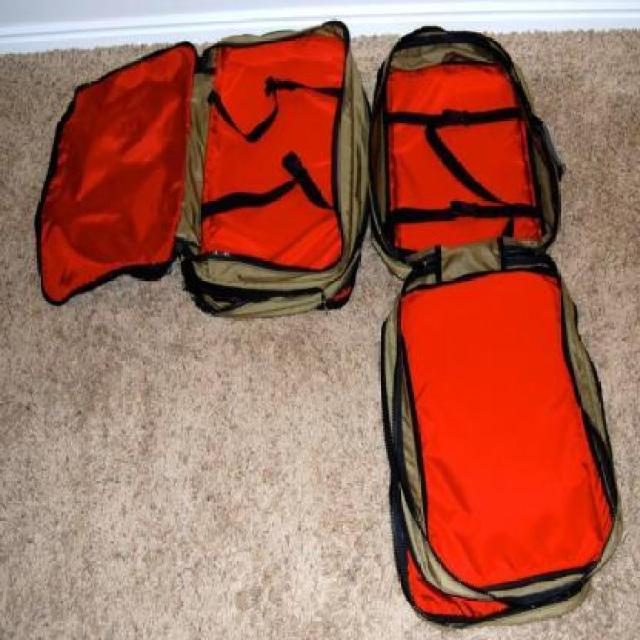backpack: (28, 14, 369, 323), (374, 266, 628, 632), (369, 26, 566, 266)
